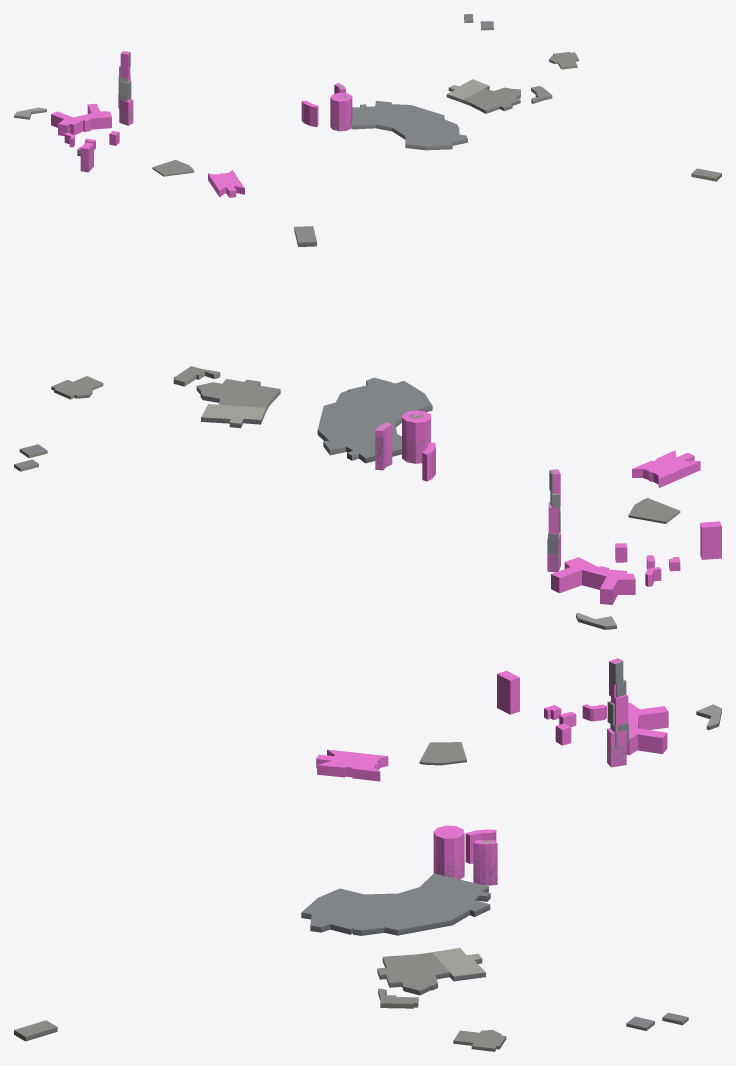
File: bld_16_10.fbx
The picture shows the model from 3 angles, top to bottom: view 1: azimuth 30°, elevation 25°; view 2: azimuth 150°, elevation 25°; view 3: azimuth 270°, elevation 25°; orthographic projection. The views are drawn at different scales.
Parts seen in each view (by area): view 1: bld_16_10_LOD0, bld_16_10_COL; view 2: bld_16_10_LOD0, bld_16_10_COL; view 3: bld_16_10_LOD0, bld_16_10_COL.
Part boxes in pixels (<box>): bld_16_10_LOD0: <box>14,14,721,181</box>; bld_16_10_COL: <box>51,51,352,197</box>; bld_16_10_LOD0: <box>14,226,680,629</box>; bld_16_10_COL: <box>375,410,721,604</box>; bld_16_10_LOD0: <box>14,660,721,1051</box>; bld_16_10_COL: <box>316,658,668,885</box>.
Size of what is drawn, in the model's own units: 2072 by 284 by 1785.
